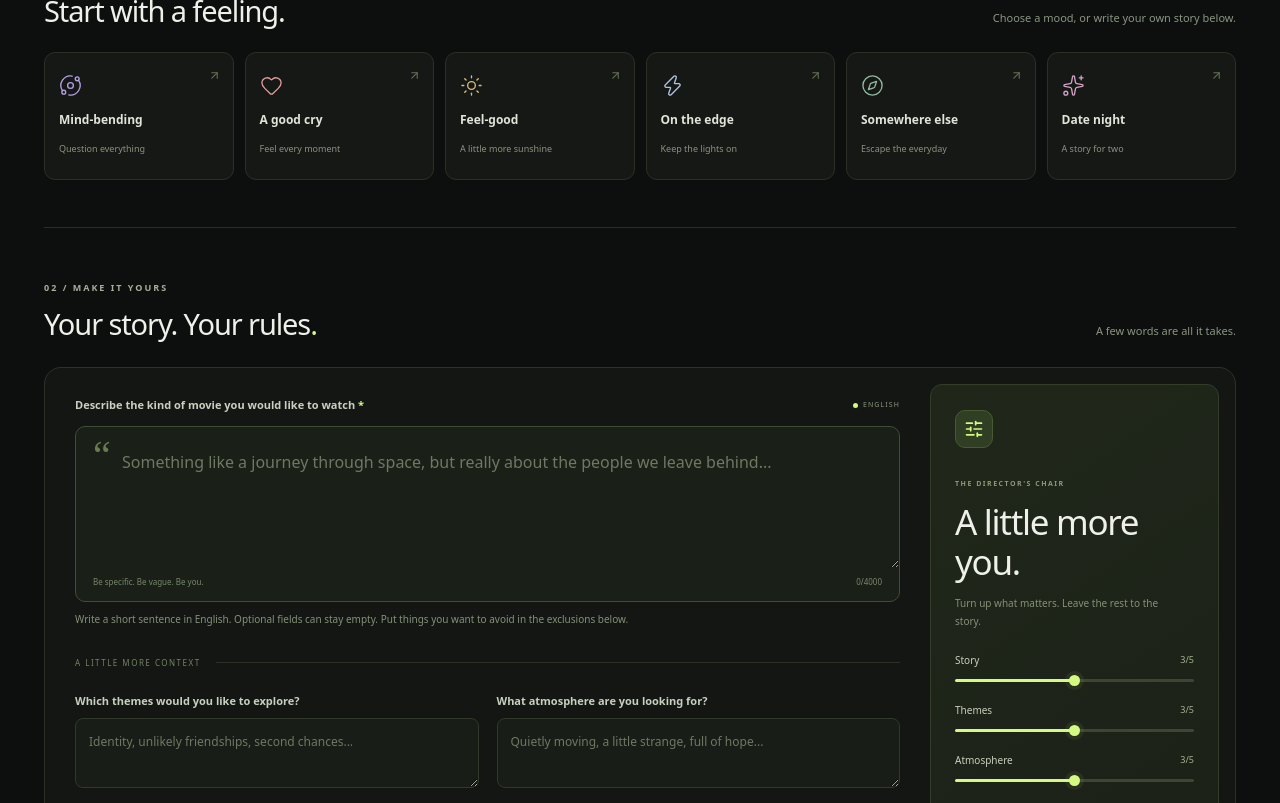
Questionnaire › sends the single-choice era, the comparison method and the storage consent
Later steps or results of the test are not shown.
(page scrolled)
Replace the text in the text box labelled "Describe the kind of movie you would like to watch *" with "I want a classic detective story.". click: (488, 500)
box: [76,433,899,568]
(page scrolled)
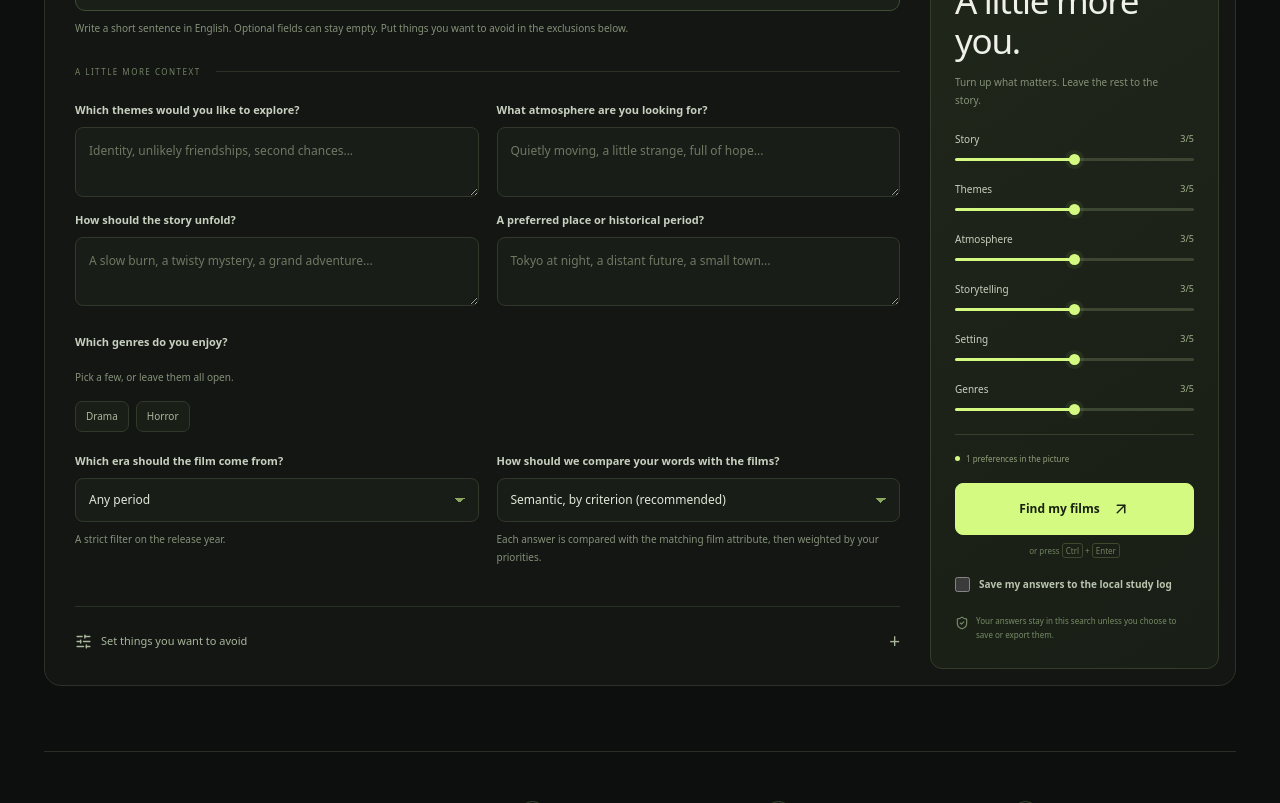
Select "Classics, before 1980" in the dropdown labelled "Which era should the film come from?". click: (277, 500)
box: [75,478,478,522]
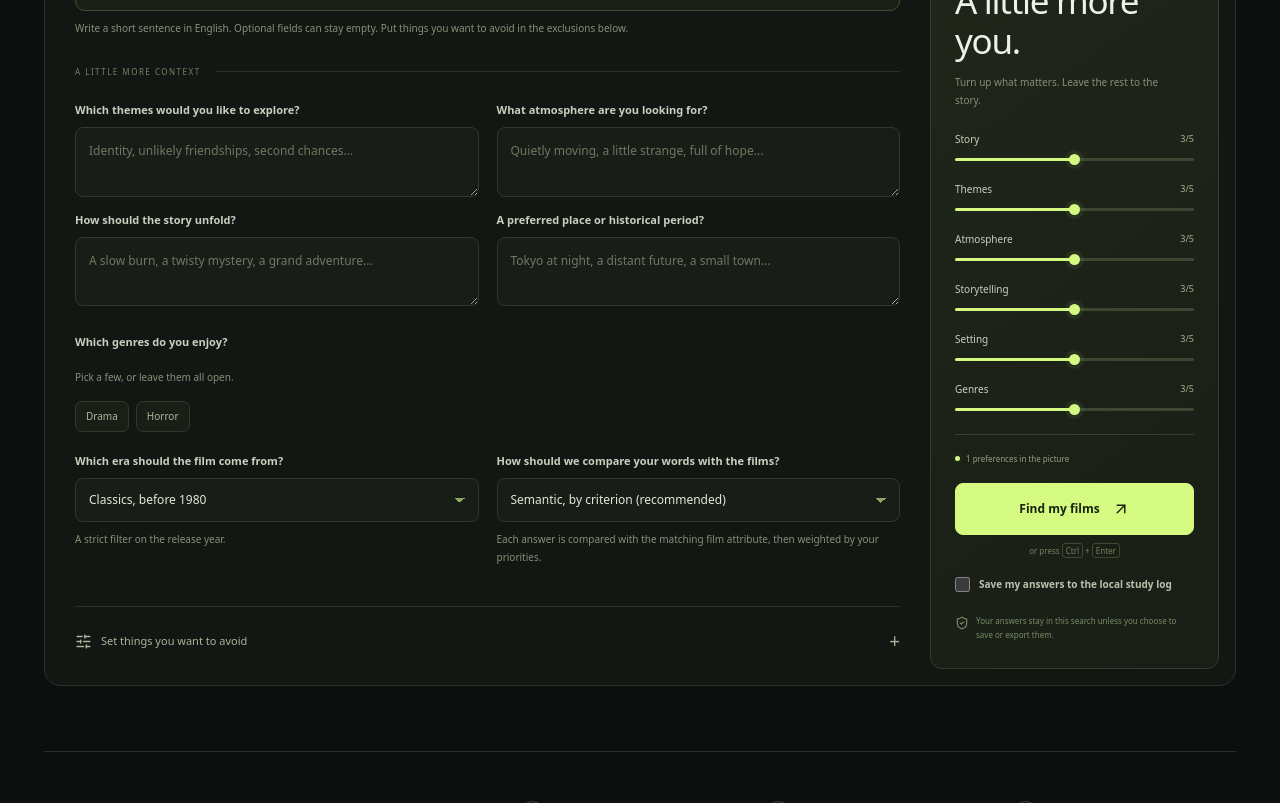
Select "Keywords only (TF-IDF baseline)" in the dropdown labelled "How should we compare your words with the films?". click: (698, 500)
box: [496,478,900,522]
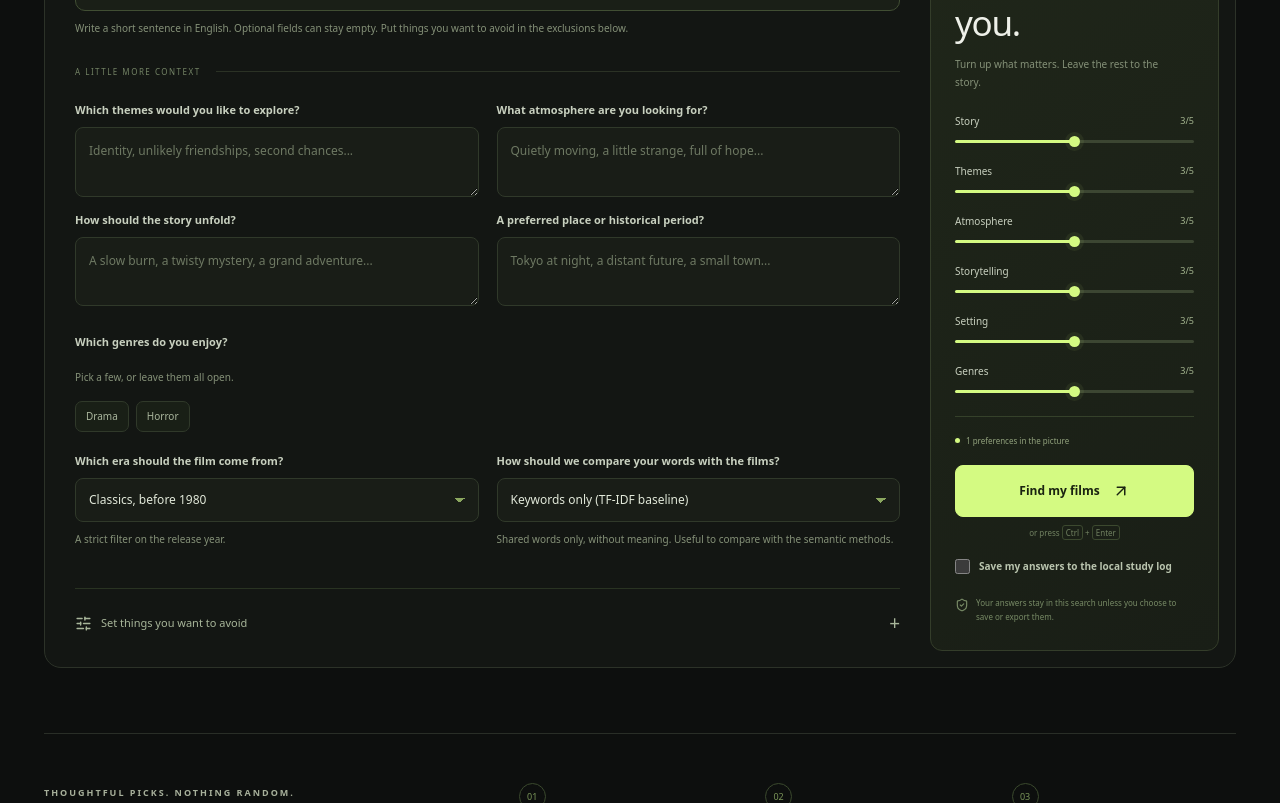
Check: the text "Shared words only" is shown, box [496,532,893,546]
